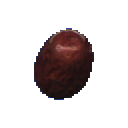gd: (25, 14, 109, 111)
